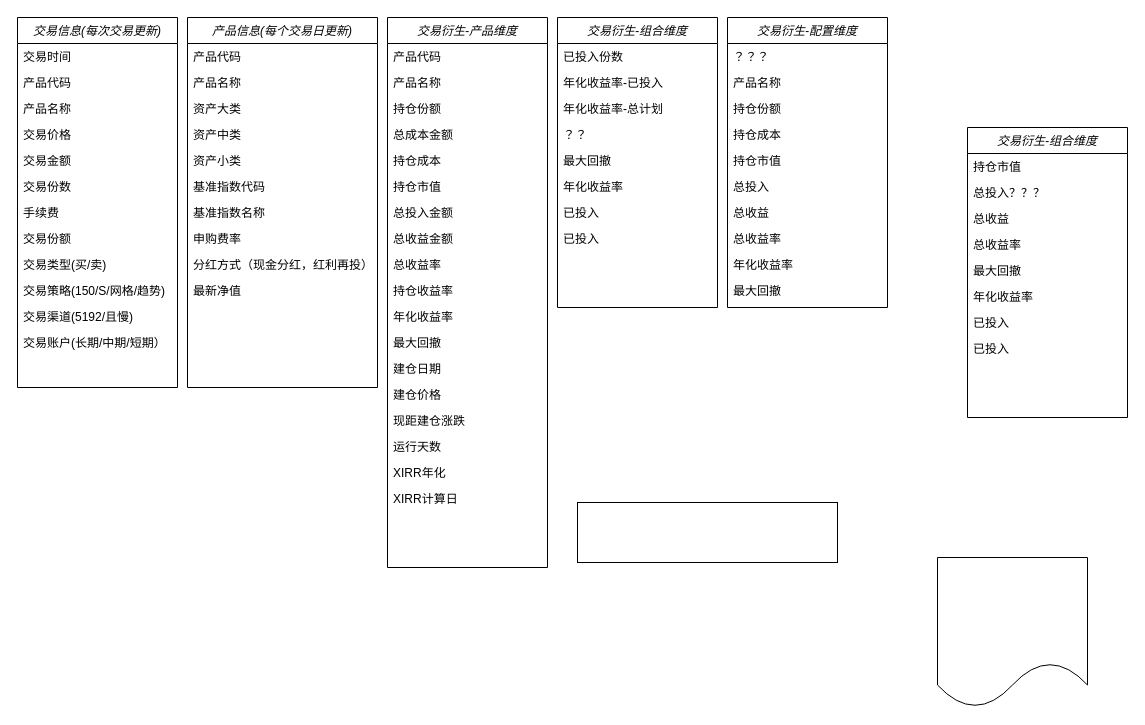
The diagram is 1145 pixels wide and 725 high, and some of its shapes have lost their labels. Here are the shapes that lost their labels. From the top down, the centre of each, then its label:
At (x=707, y=532): "1，已投入份数=sumifs(交易份数，交易类型，买)-sumifs(交易份数，交易类型，卖）".
At (x=1012, y=632): "持仓份额= 持仓成本= 持仓市值= 总投入= 总收益= 总收益率= 年化收益率= 最大回撤=".
